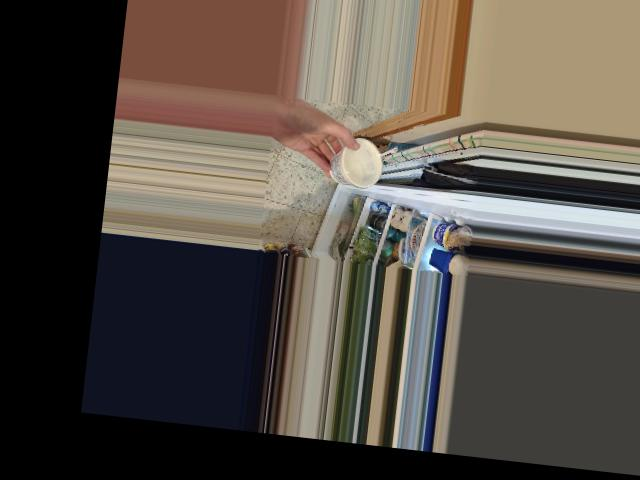cotage: (328, 138, 389, 187)
